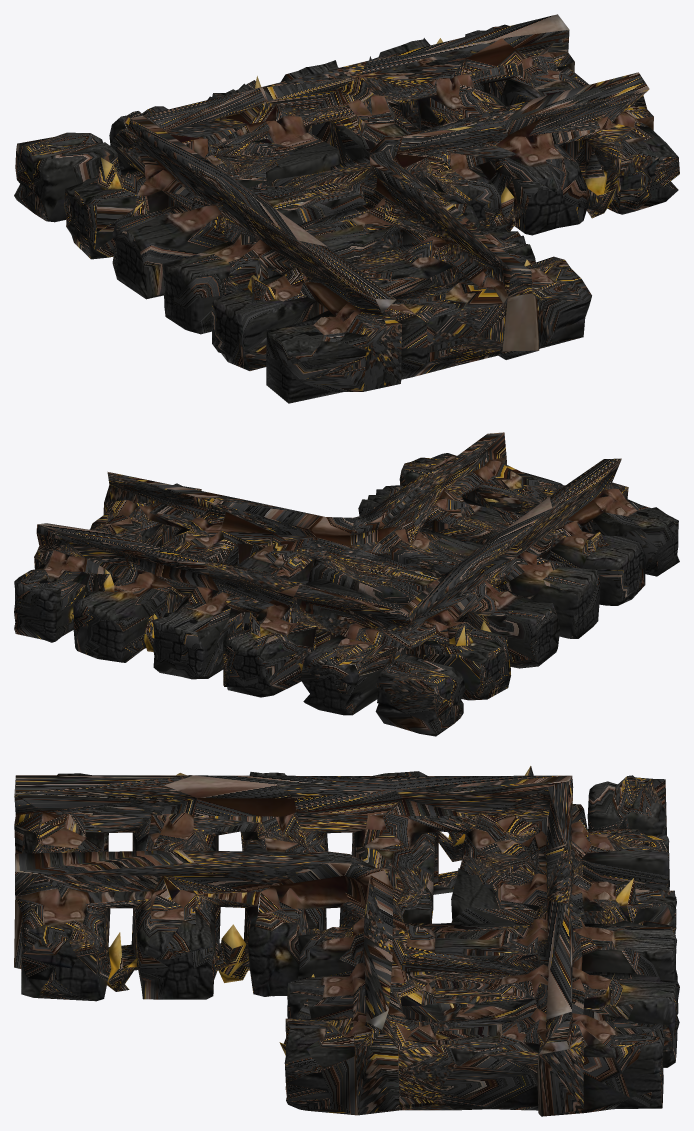
File: railroad_track_01.glb
3 renders of one model, top to bottom at view 1: azimuth 30°, elevation 25°; view 2: azimuth 150°, elevation 25°; view 3: azimuth 270°, elevation 25°, orthographic. The views are drawn at different scales.
Parts seen in each view (by area): view 1: tripo_node_8bed3273-8a2b-4a83-9d5e-11d6b181e7a3; view 2: tripo_node_8bed3273-8a2b-4a83-9d5e-11d6b181e7a3; view 3: tripo_node_8bed3273-8a2b-4a83-9d5e-11d6b181e7a3.
Part boxes in pixels (x1,y1,x2,y2): tripo_node_8bed3273-8a2b-4a83-9d5e-11d6b181e7a3: (14,14,679,403); tripo_node_8bed3273-8a2b-4a83-9d5e-11d6b181e7a3: (14,432,679,736); tripo_node_8bed3273-8a2b-4a83-9d5e-11d6b181e7a3: (14,766,679,1116).
Bounding box in the file's own units: 0.9822 × 0.1785 × 0.9794.
Materials: 1 (1 with a texture image).
